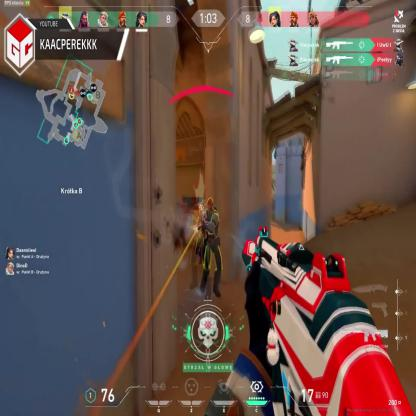enemy: (198, 197, 222, 295)
enemy_head: (207, 198, 213, 212)
